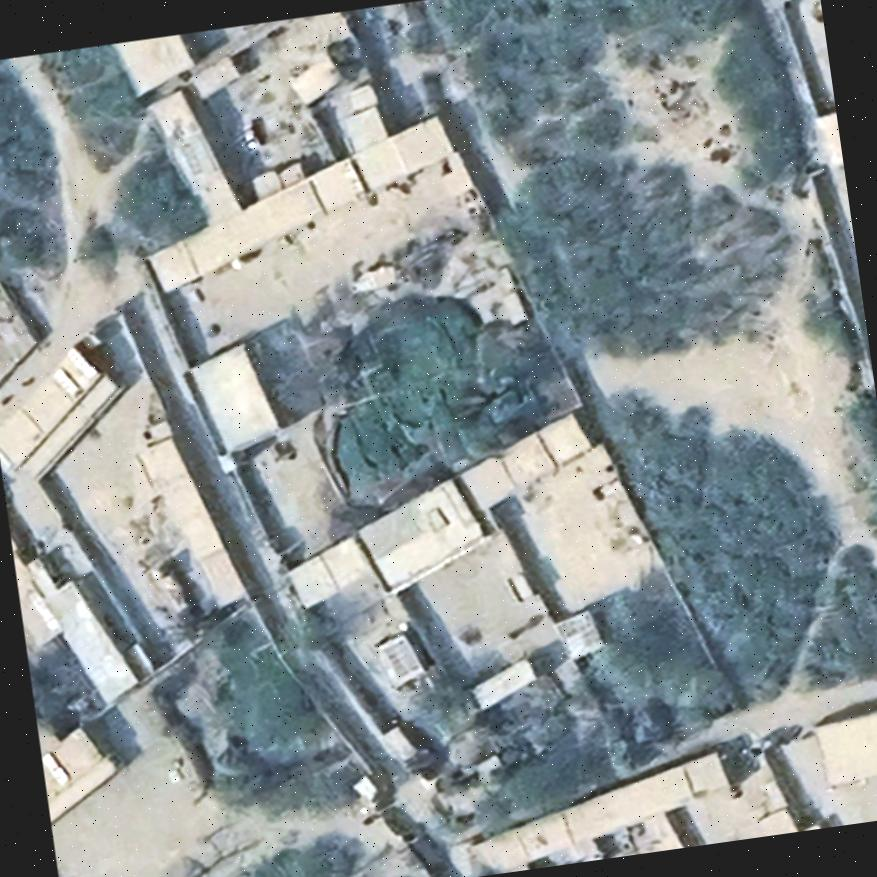Solarpanel: (376, 626, 430, 683), (555, 606, 604, 660)
